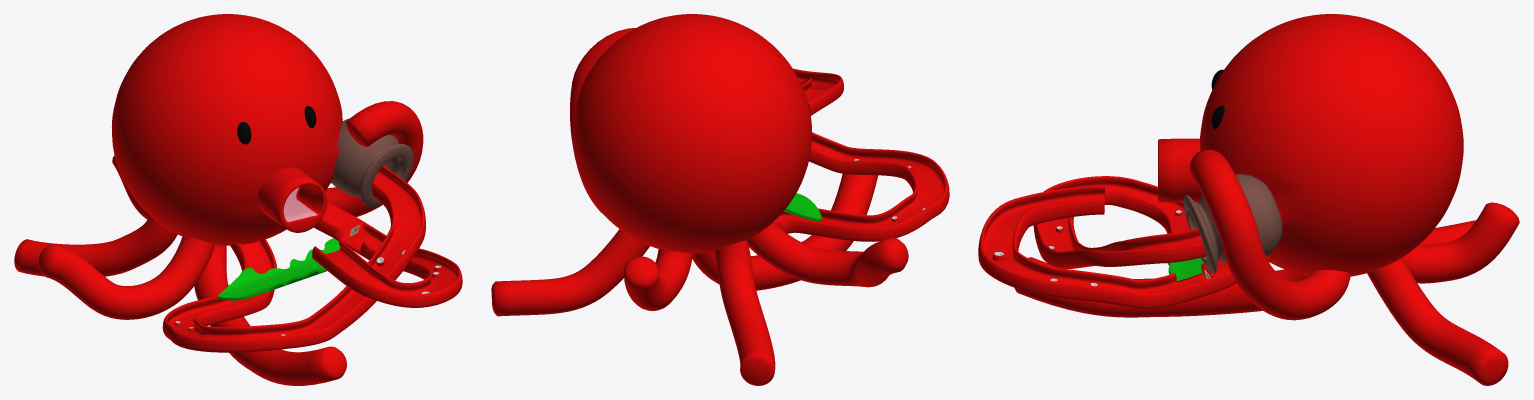
Rendered from miscart_octpas_1.2.fbx.
3 views of the same model, side by side, from view 1: azimuth 30°, elevation 25°; view 2: azimuth 150°, elevation 25°; view 3: azimuth 270°, elevation 25° (orthographic). The views are drawn at different scales.
Parts seen in each view (by area): view 1: tako_head, leg_01, leg_02, leg_03, leg_04, leg_05, tsubo, leg_08, tako_mouse, wakame, tako_eye; view 2: tako_head, leg_01, leg_03, leg_07, leg_05, leg_04, leg_06, leg_02, leg_08, wakame; view 3: tako_head, leg_02, leg_08, leg_01, leg_07, leg_06, leg_04, tsubo, tako_mouse, leg_05, wakame.
Boxes of the visible parts, left/top/right/bottom form: tako_head: left=111, top=14, right=342, bottom=245; leg_01: left=162, top=165, right=425, bottom=352; leg_02: left=312, top=202, right=462, bottom=307; leg_03: left=38, top=236, right=214, bottom=319; leg_04: left=194, top=245, right=346, bottom=385; leg_05: left=14, top=215, right=177, bottom=276; tsubo: left=331, top=118, right=413, bottom=207; leg_08: left=325, top=101, right=423, bottom=216; tako_mouse: left=258, top=167, right=331, bottom=232; wakame: left=217, top=238, right=340, bottom=300; tako_eye: left=237, top=106, right=316, bottom=144; tako_head: left=572, top=14, right=811, bottom=253; leg_01: left=773, top=132, right=949, bottom=241; leg_03: left=747, top=222, right=908, bottom=287; leg_07: left=491, top=229, right=649, bottom=316; leg_05: left=714, top=240, right=775, bottom=385; leg_04: left=692, top=173, right=878, bottom=290; leg_06: left=624, top=249, right=692, bottom=310; leg_02: left=793, top=68, right=843, bottom=115; leg_08: left=570, top=28, right=635, bottom=216; wakame: left=784, top=193, right=821, bottom=221; tako_head: left=1199, top=14, right=1463, bottom=276; leg_02: left=978, top=185, right=1270, bottom=309; leg_08: left=1189, top=149, right=1350, bottom=320; leg_01: left=1033, top=176, right=1205, bottom=268; leg_07: left=1367, top=258, right=1508, bottom=385; leg_06: left=1402, top=202, right=1519, bottom=283; leg_04: left=1014, top=257, right=1308, bottom=317; tsubo: left=1183, top=174, right=1282, bottom=273; tako_mouse: left=1158, top=138, right=1281, bottom=218; leg_05: left=1419, top=220, right=1476, bottom=244; wakame: left=1167, top=258, right=1203, bottom=280.
Bounding box in the file's own units: 2995 × 2265 × 3522.
9 materials, 2 textured.
